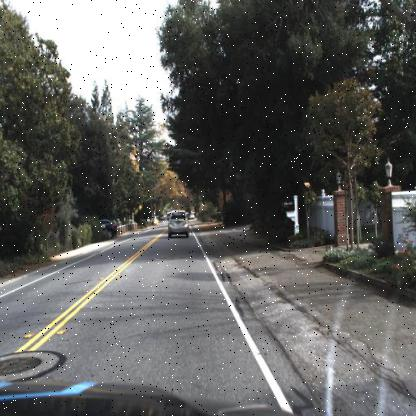car: (165, 206, 193, 238), (94, 213, 116, 240), (100, 217, 118, 241)
